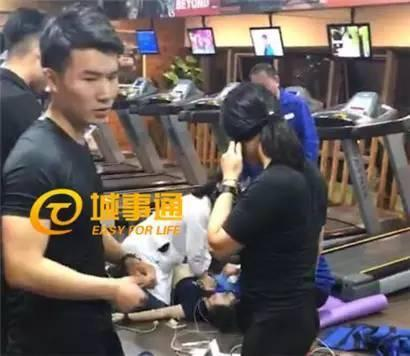Fall-Detected: (90, 146, 240, 324)
